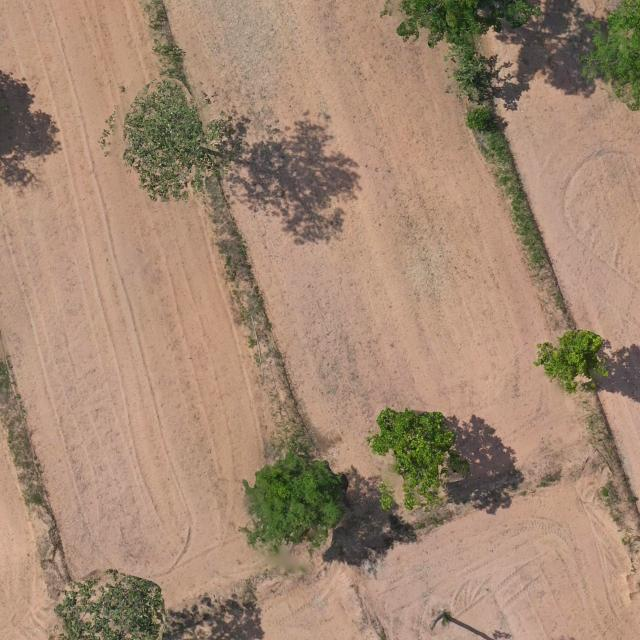Tree: (121, 78, 237, 207), (240, 441, 347, 553), (365, 404, 470, 513), (49, 565, 170, 640), (380, 0, 542, 42), (582, 18, 640, 112), (533, 326, 612, 395), (444, 44, 488, 106)
